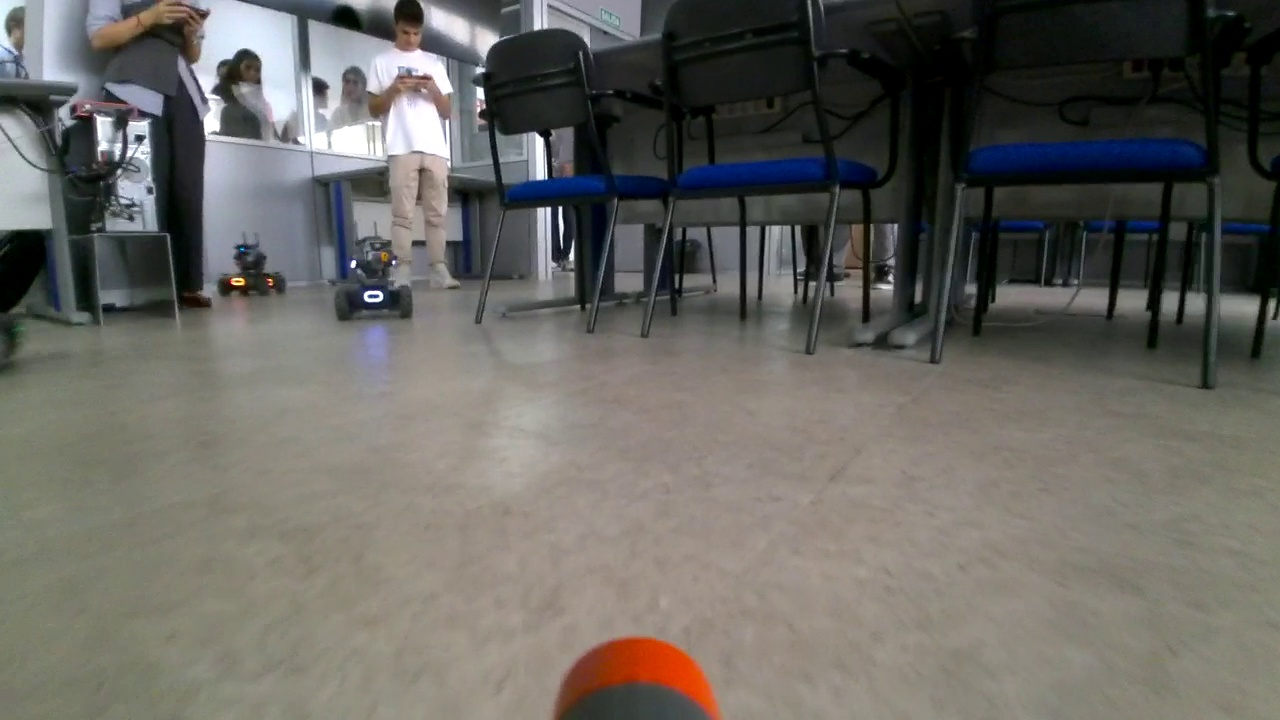robot: (336, 223, 414, 317), (216, 237, 289, 297)
